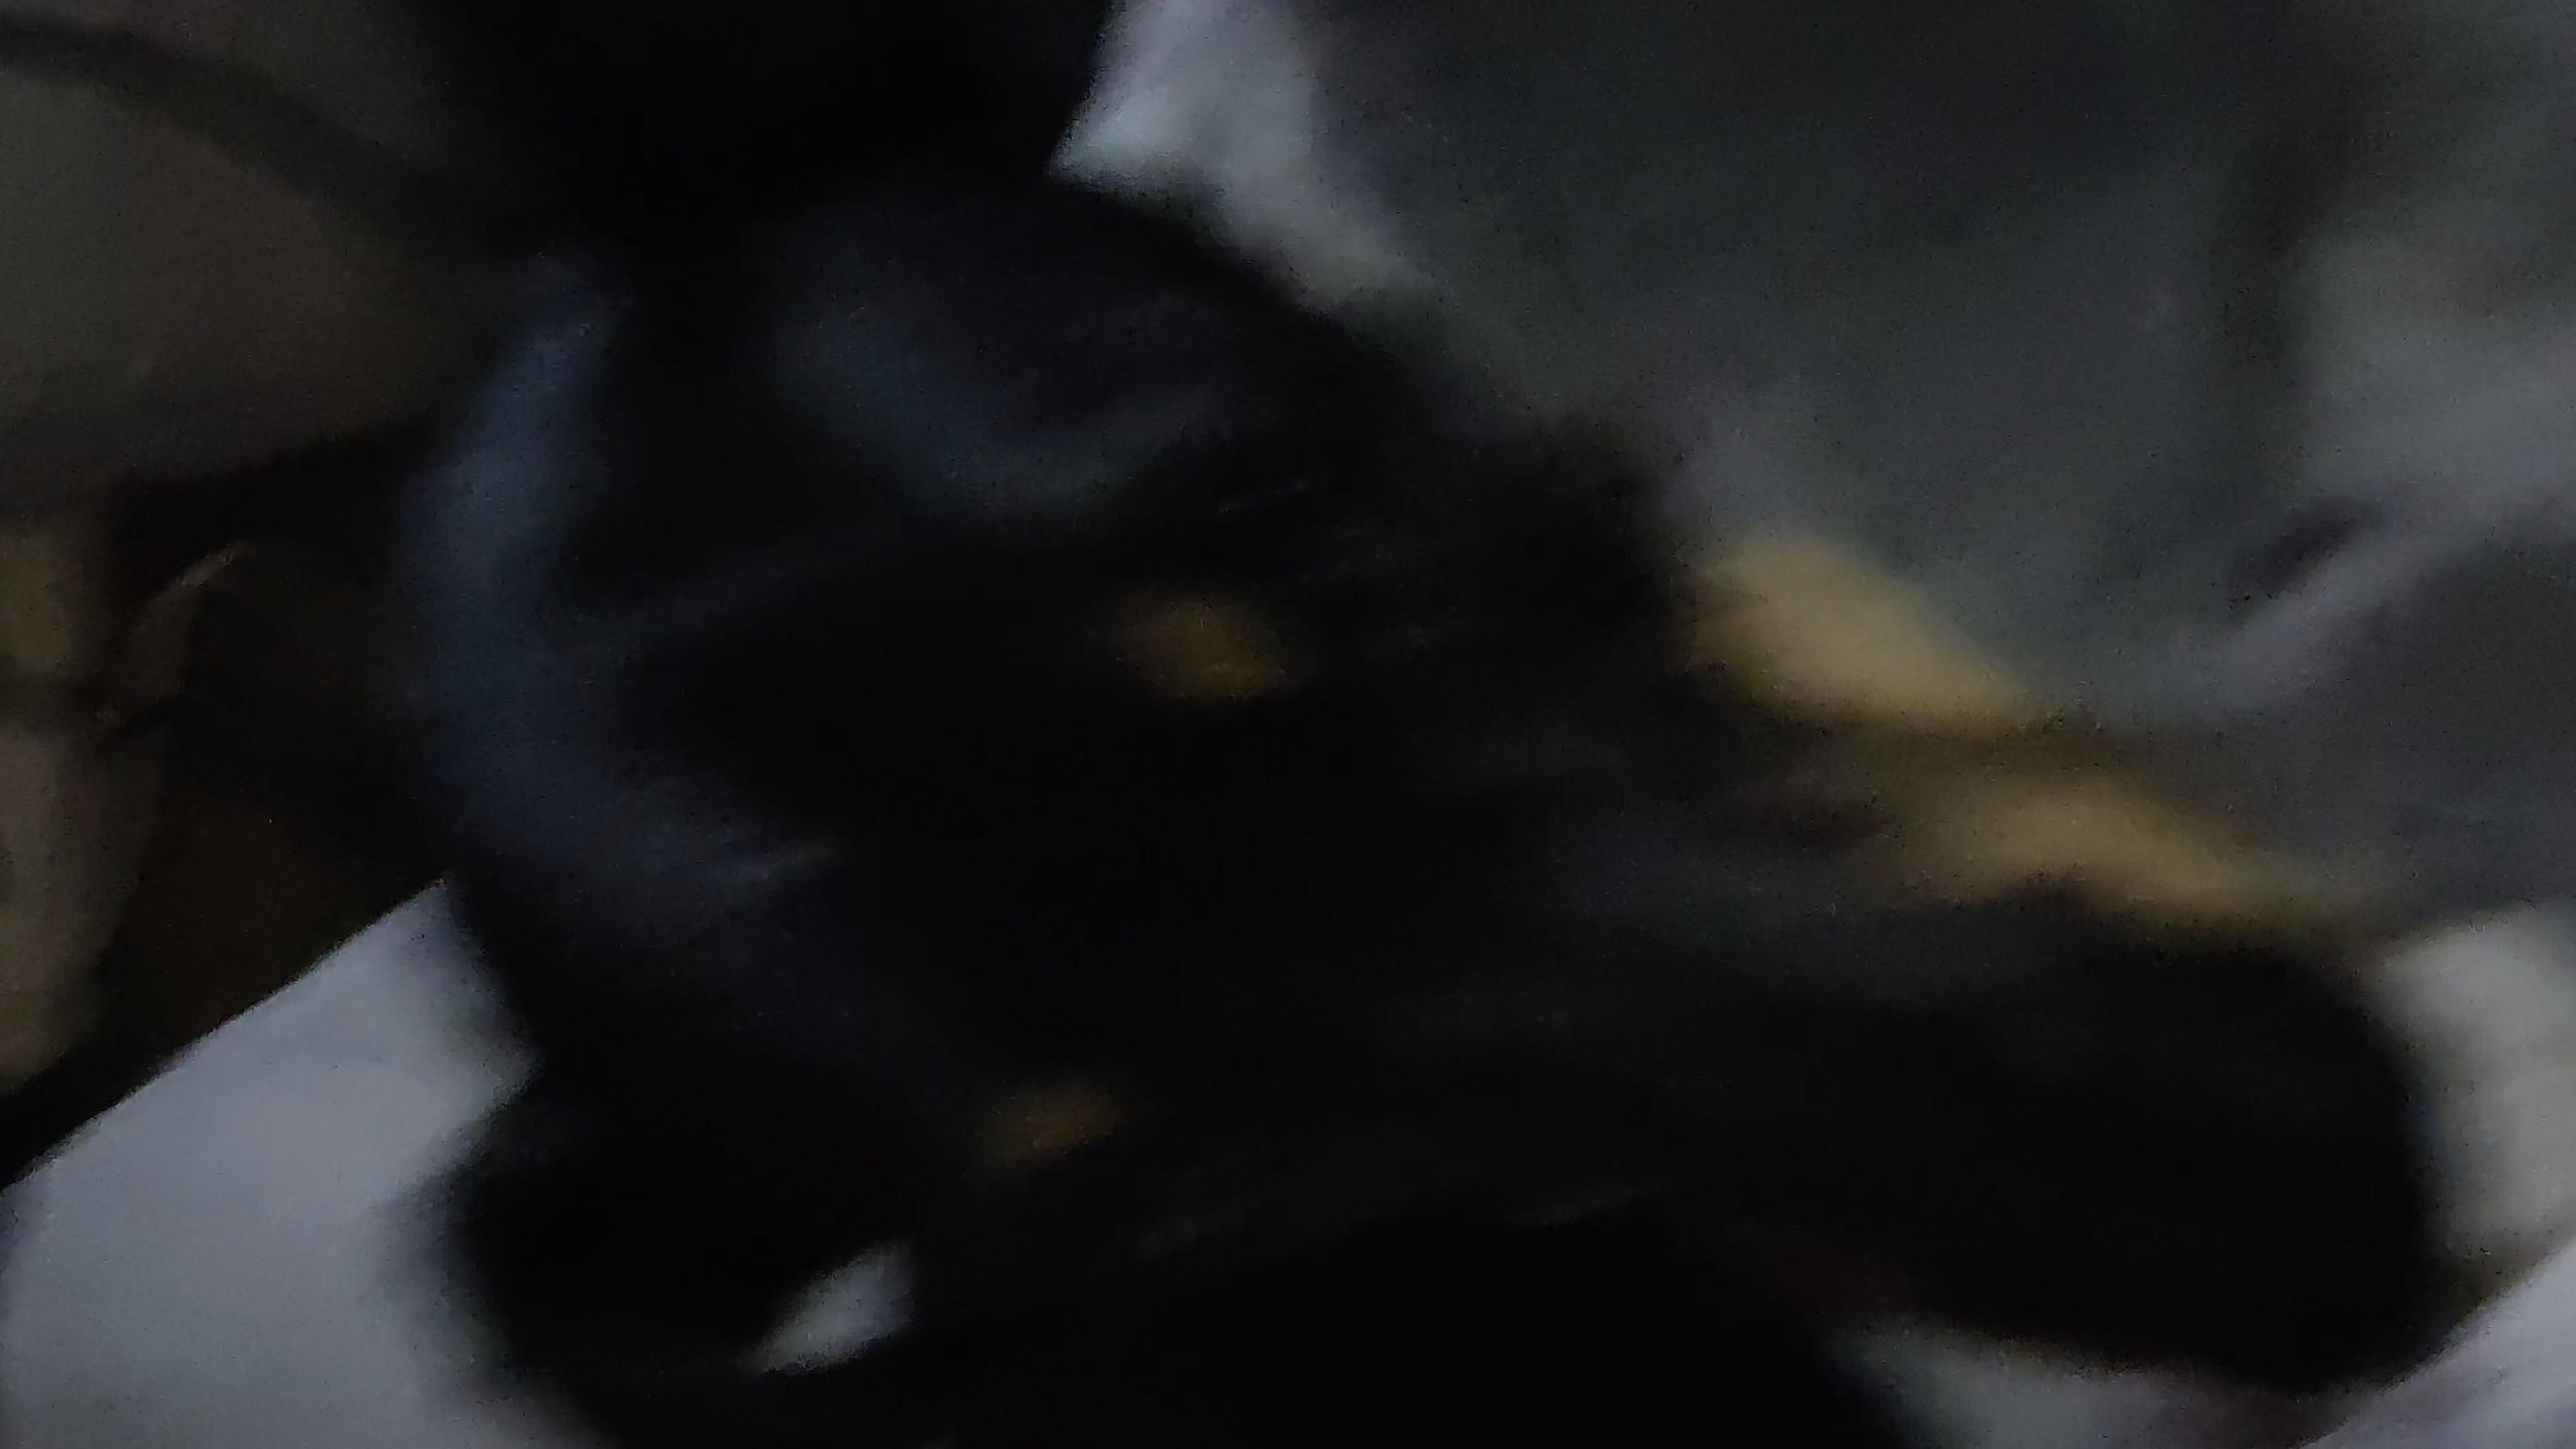Dog: (338, 0, 2576, 1449)
